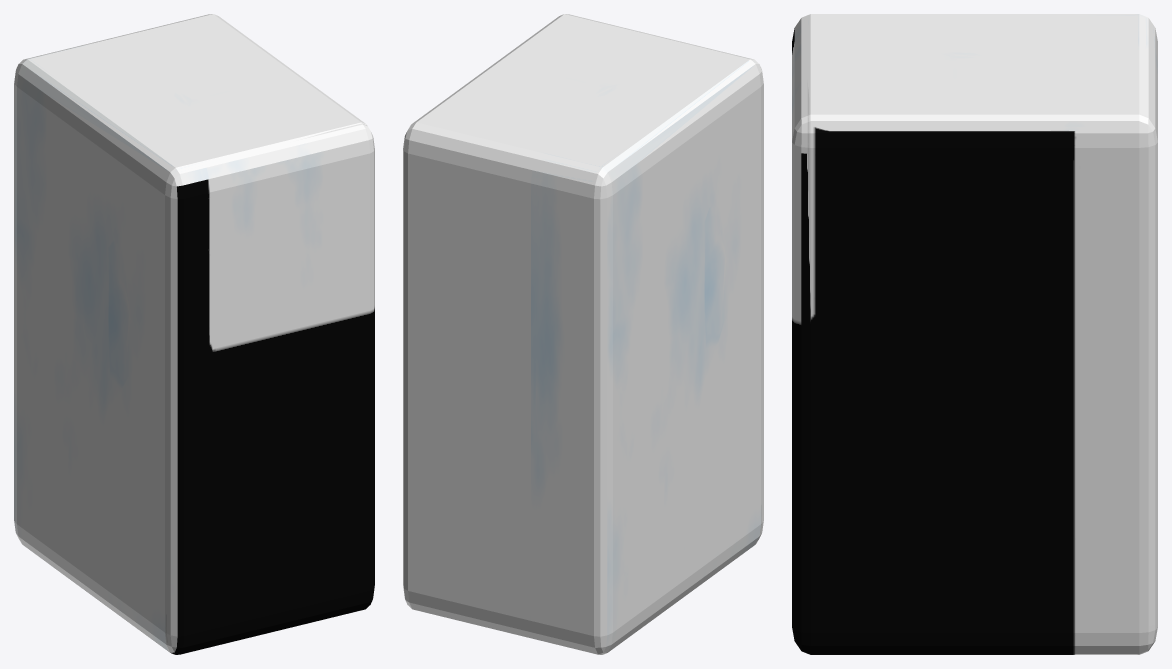
Rendered from FetaBakedV2.gltf.
3 renders of one model, left to right at view 1: azimuth 30°, elevation 25°; view 2: azimuth 150°, elevation 25°; view 3: azimuth 270°, elevation 25°, orthographic. The views are drawn at different scales.
Visible parts, largest first — view 1: Cube.003; view 2: Cube.003; view 3: Cube.003.
Part boxes in pixels (x1,y1,x2,y2): Cube.003: (14,14,374,654); Cube.003: (403,14,763,654); Cube.003: (792,14,1157,654).
Size of the model in its own units: 0.4473 by 1.01 by 0.6173.
Materials: 1 (1 with a texture image).
